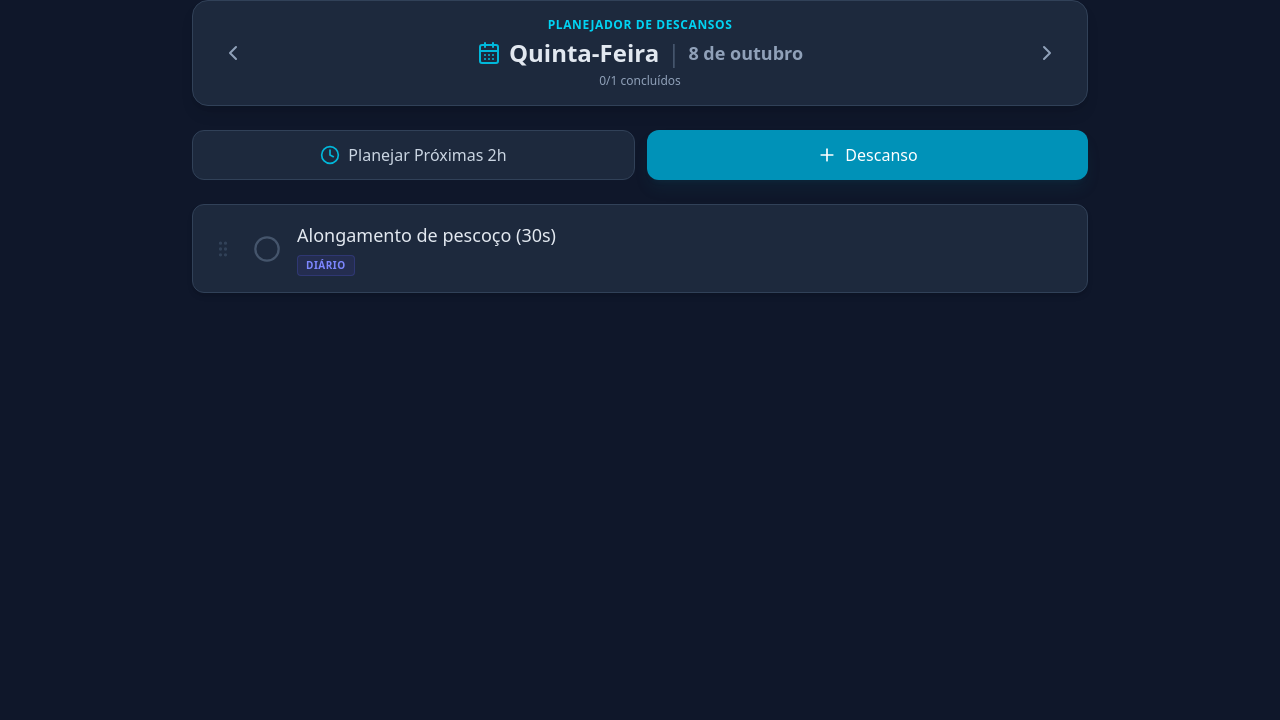
Test: RestView - Next 2 Hours Mode › allows creating a new task
Note: Open modal
Step 1. Click the button "Planejar Próximas 2h" → {"x": 414, "y": 155}, box [192,130,635,180]
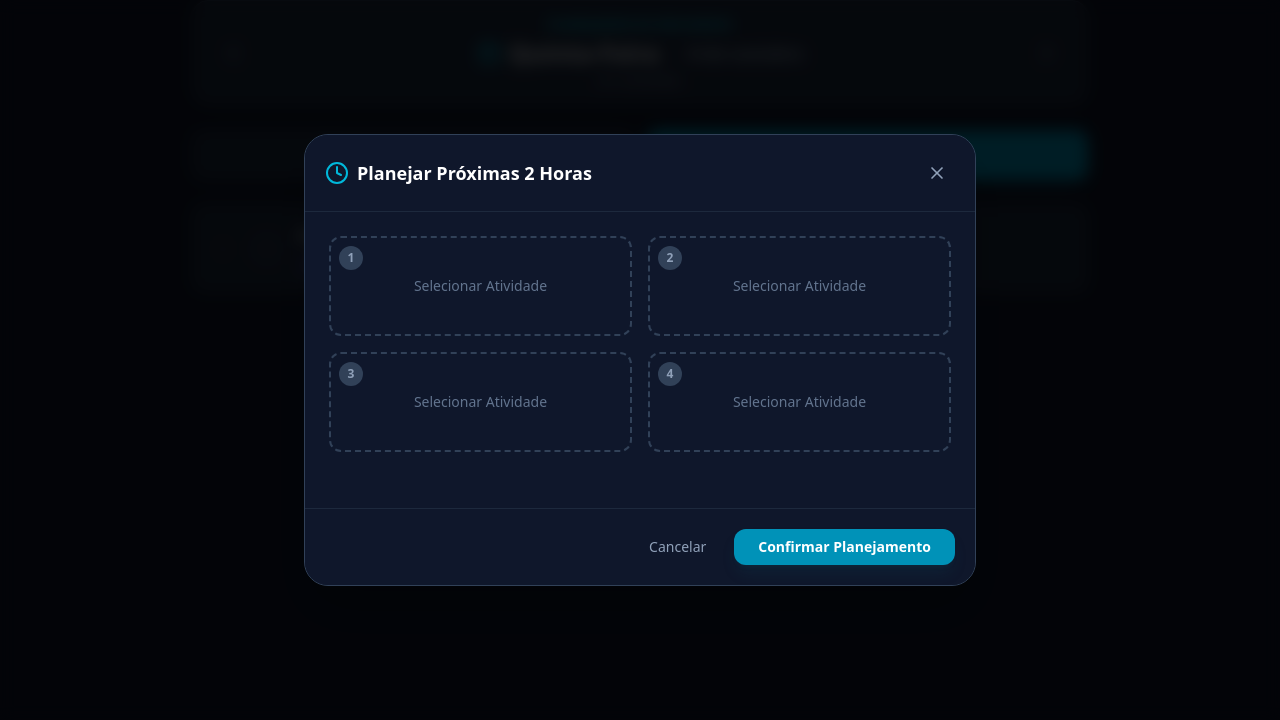
Check: the 1st text "Selecionar Atividade" is shown
Step 2. Click the 1st text "Selecionar Atividade" → {"x": 480, "y": 286}, box [414,276,547,296]
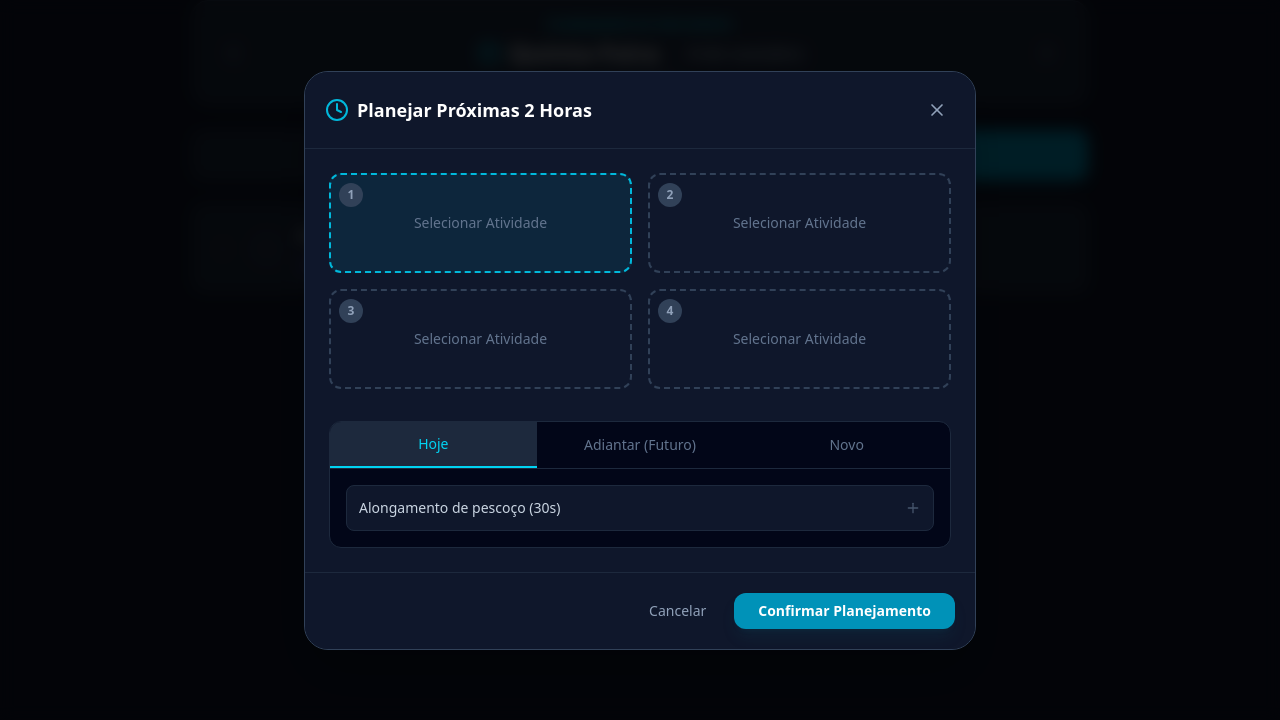
Note: Switch to New tab
Step 3. Click the button "Novo" → {"x": 847, "y": 444}, box [743,422,950,468]
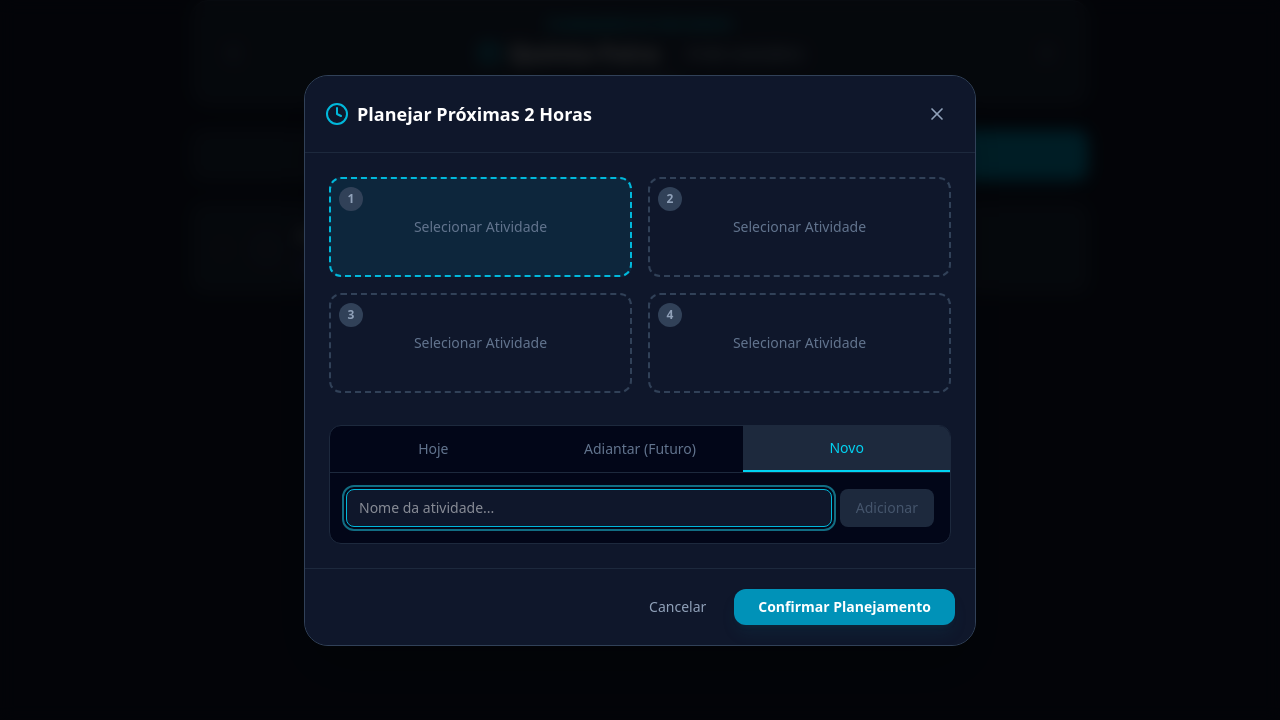
Note: Type name
Step 4. Type "Nova Tarefa Teste" into the field with placeholder "Nome da atividade..." → {"x": 589, "y": 508}, box [346,488,832,526]
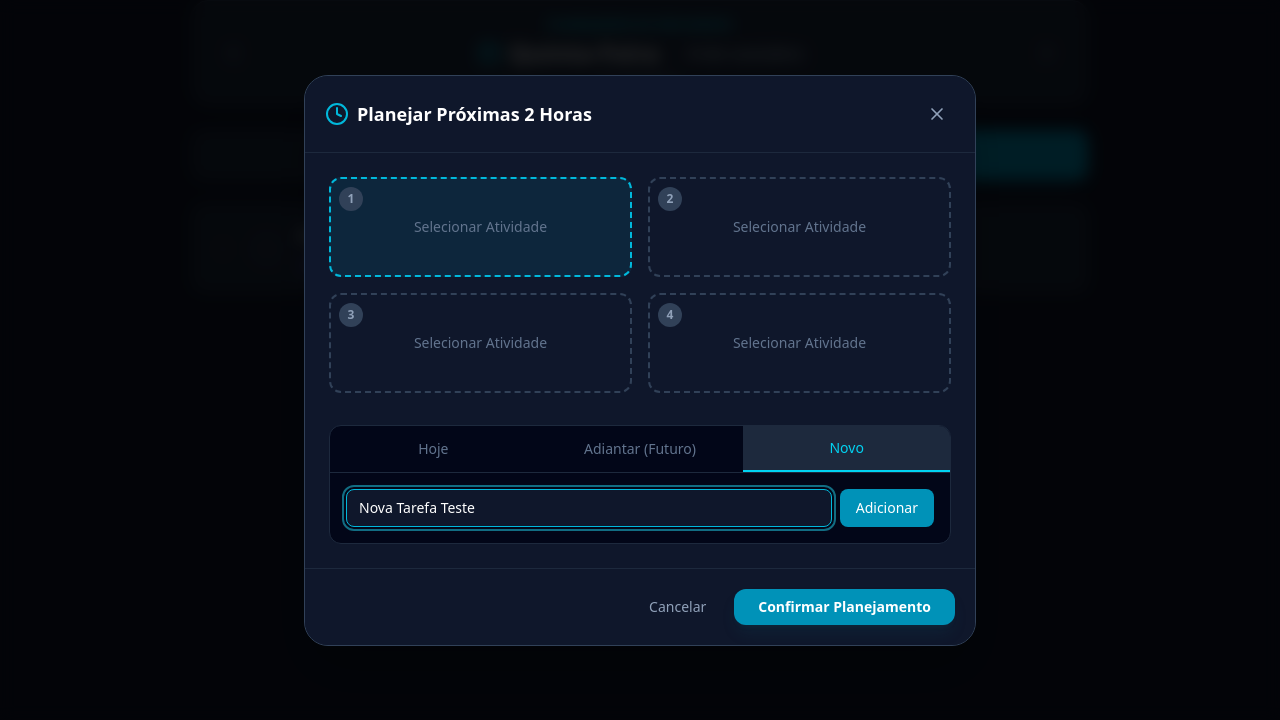
Step 5. Click the button "Adicionar" → {"x": 887, "y": 508}, box [840,488,934,526]
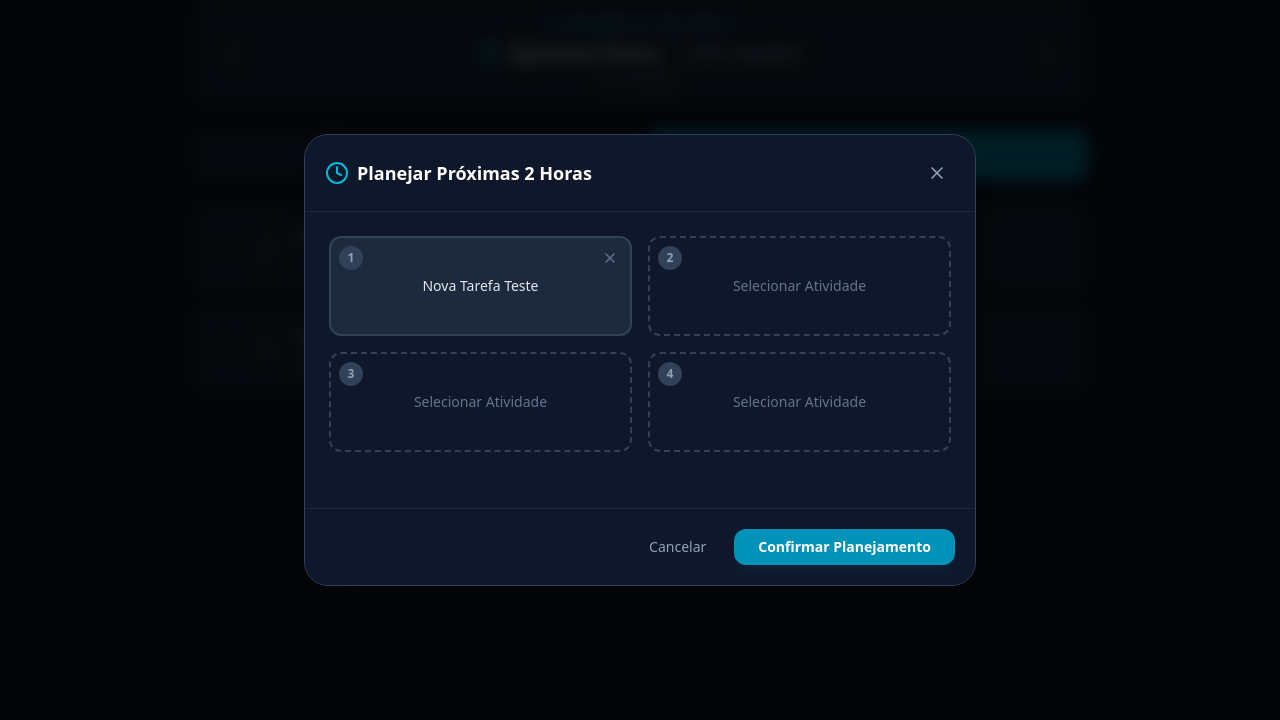
Check: the text "Nova Tarefa Teste" below "DIÁRIO" is shown, box [297,324,446,348]
